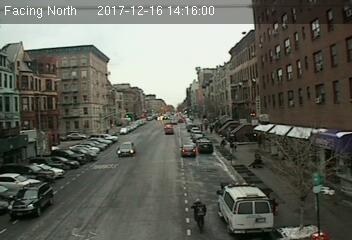bicycle: (191, 197, 208, 234)
car: (8, 182, 52, 215), (117, 141, 135, 157), (197, 139, 213, 153), (179, 145, 196, 158)
police: (216, 182, 276, 238)
